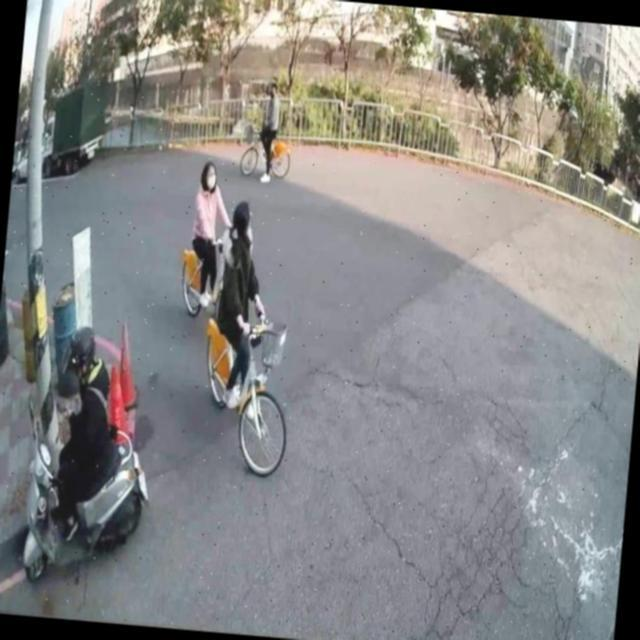person: (40, 316, 122, 548), (205, 192, 278, 413), (180, 153, 238, 310), (248, 72, 286, 188)
